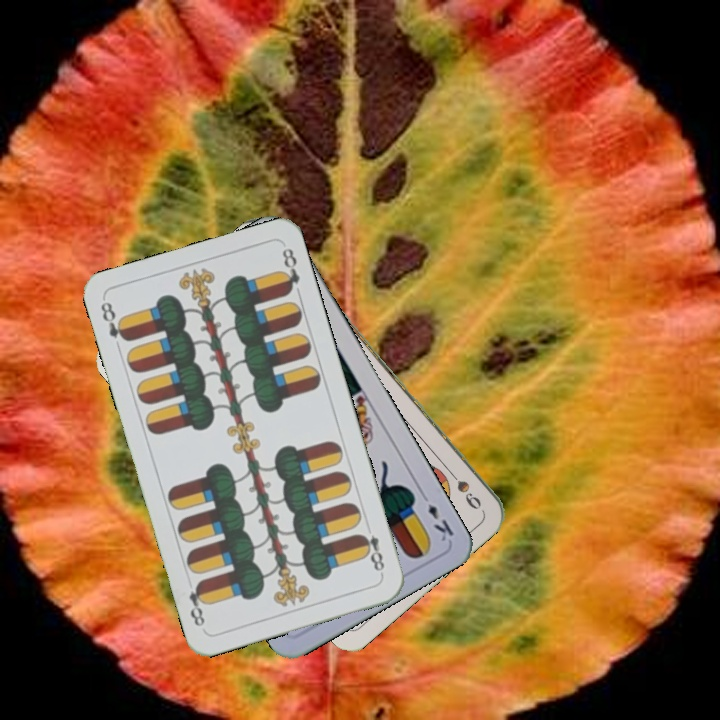E8: (355, 520, 387, 578), (96, 297, 132, 344)
EK: (416, 488, 456, 544)
S9: (441, 463, 485, 511)
